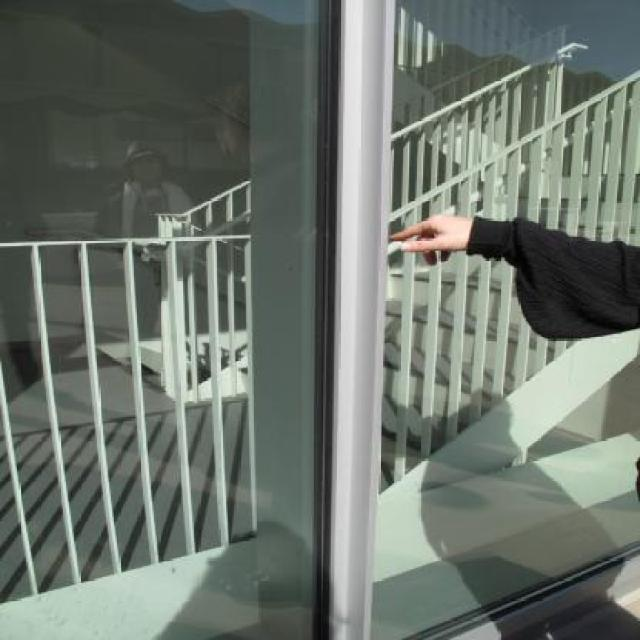stair: (240, 172, 640, 451)
